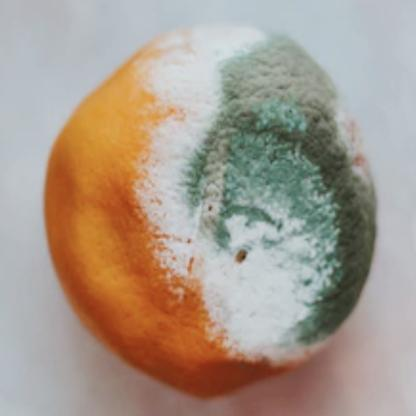rotten: (45, 28, 377, 402)
